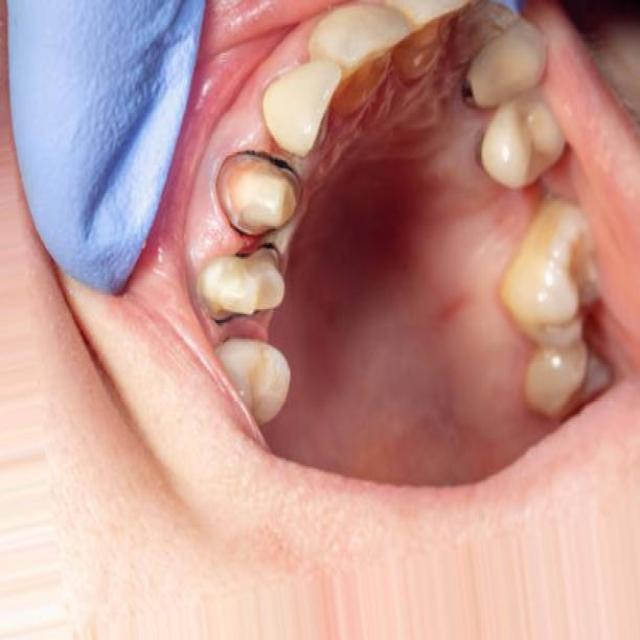caries: (215, 148, 305, 246), (196, 243, 293, 320), (455, 65, 487, 123)
